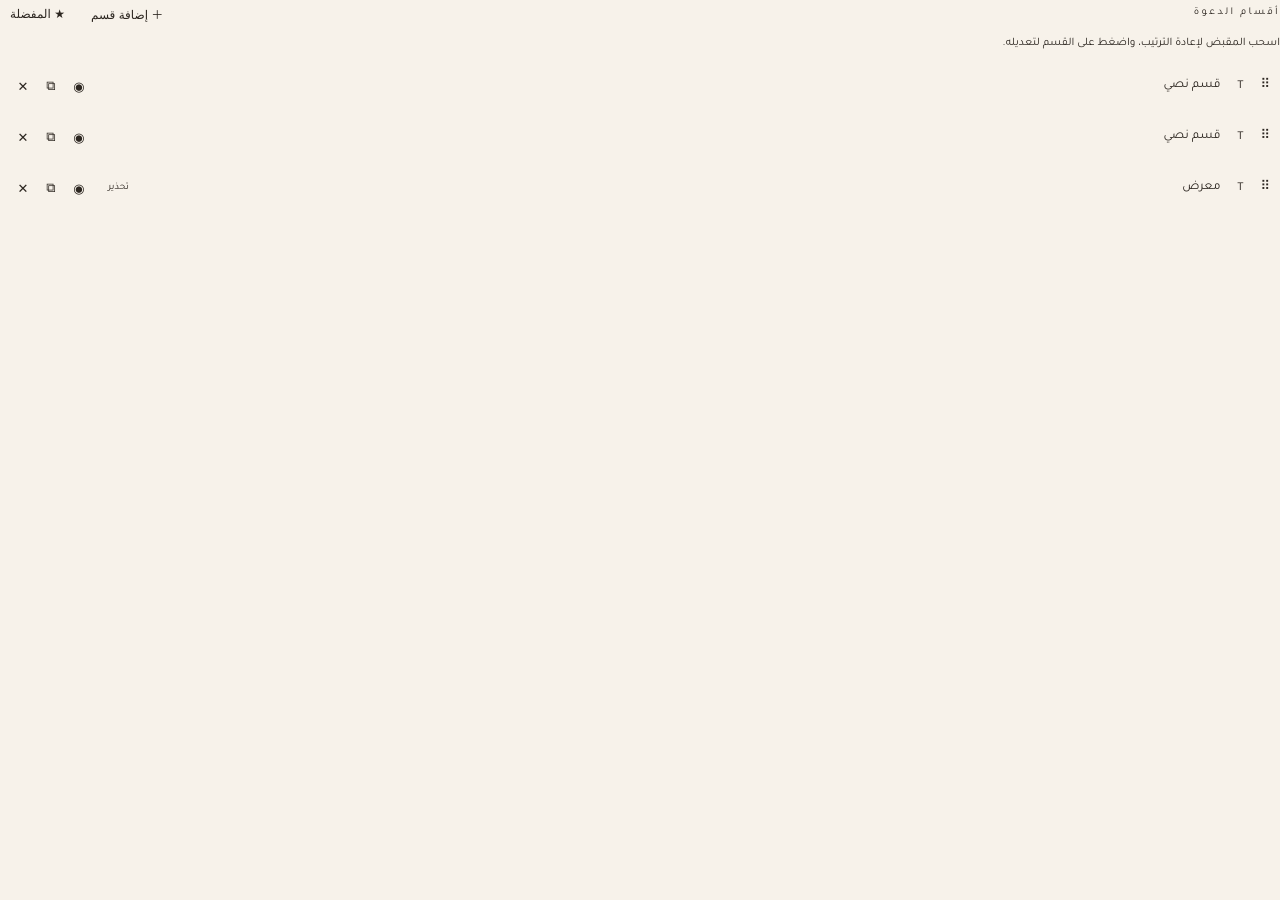
Test: BlocksPanel › opens the picker, disables an existing singleton and adds a section after the selection
Click the button "＋ إضافة قسم".
click(127, 14)  # box [81, 0, 173, 27]
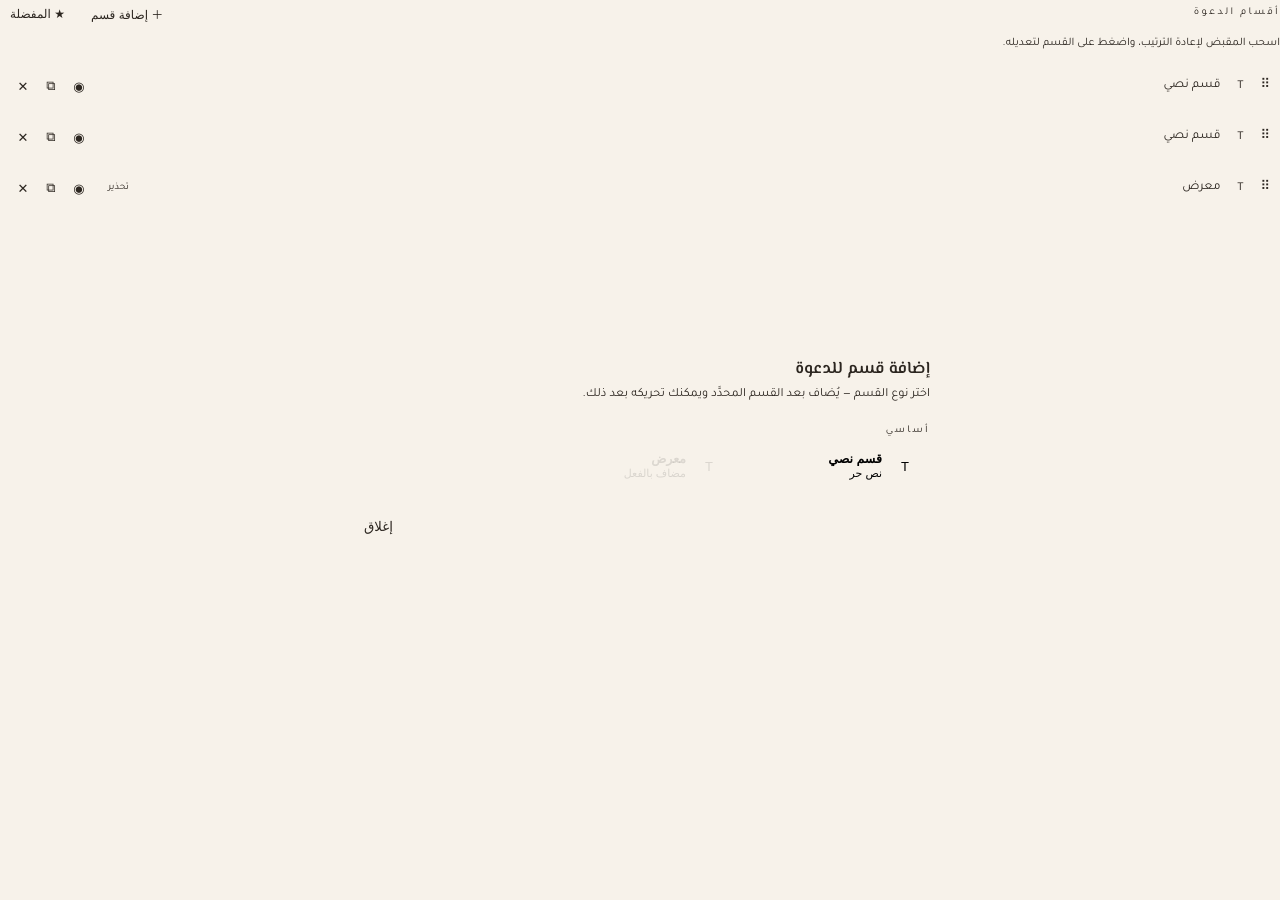
Now the button "T معرض مضاف بالفعل" is disabled, box [546, 440, 734, 493]
Click the button "T قسم نصي نص حر".
click(836, 467)  # box [742, 440, 930, 493]
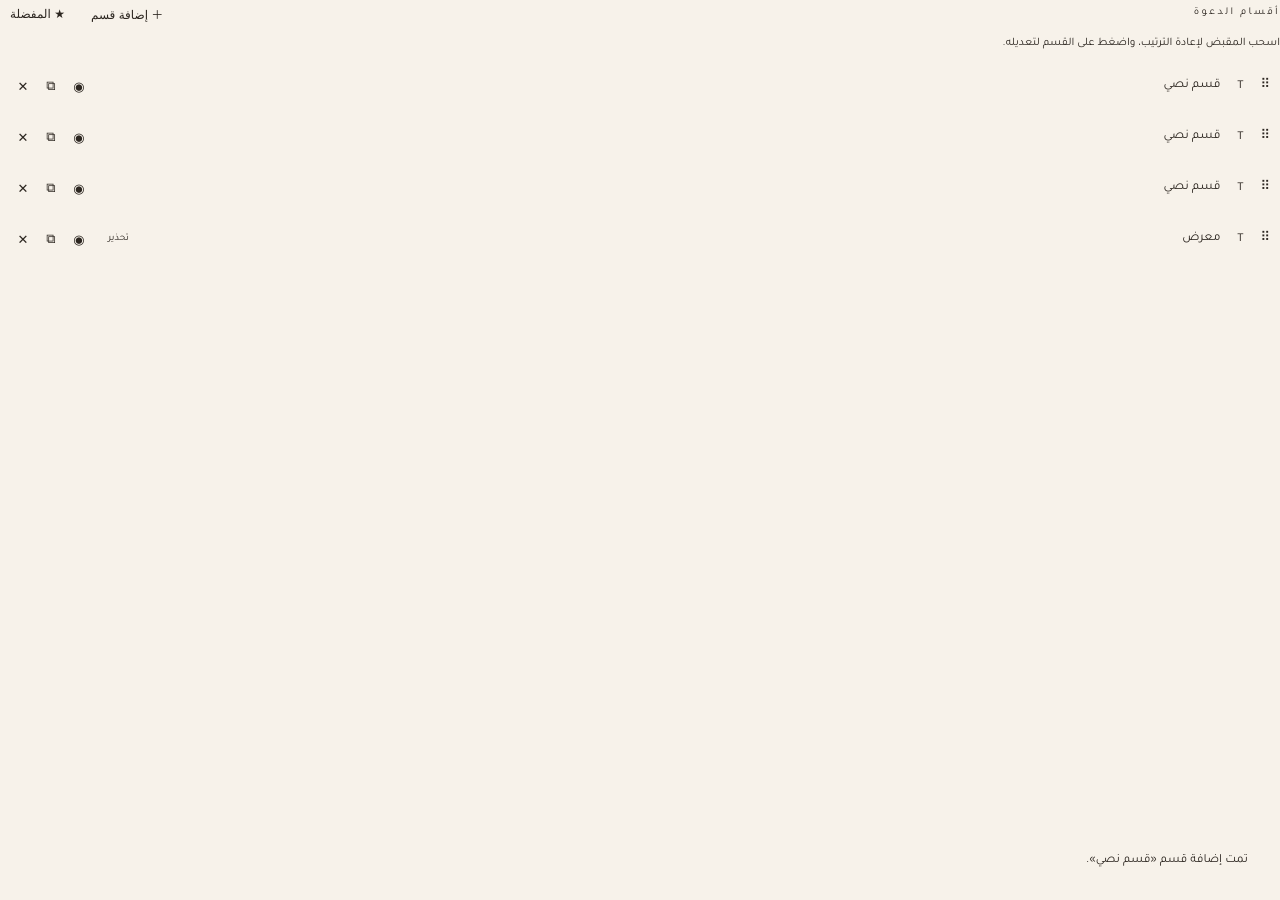
Now the dialog is gone
